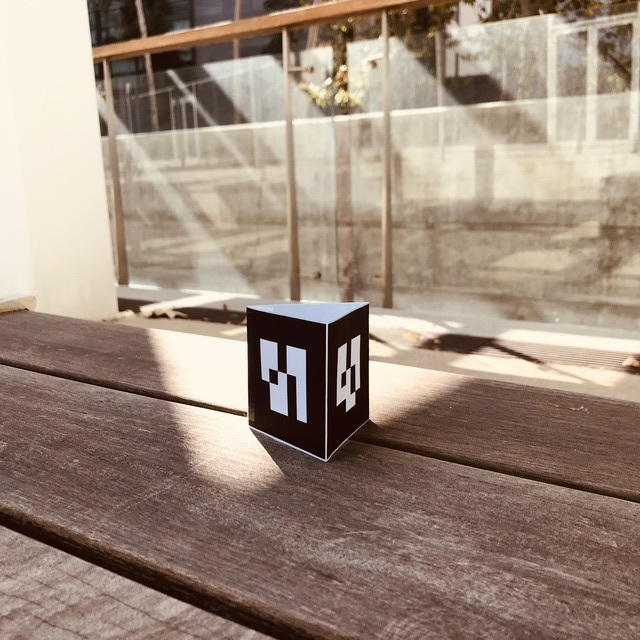ARTag: (246, 302, 371, 461)
